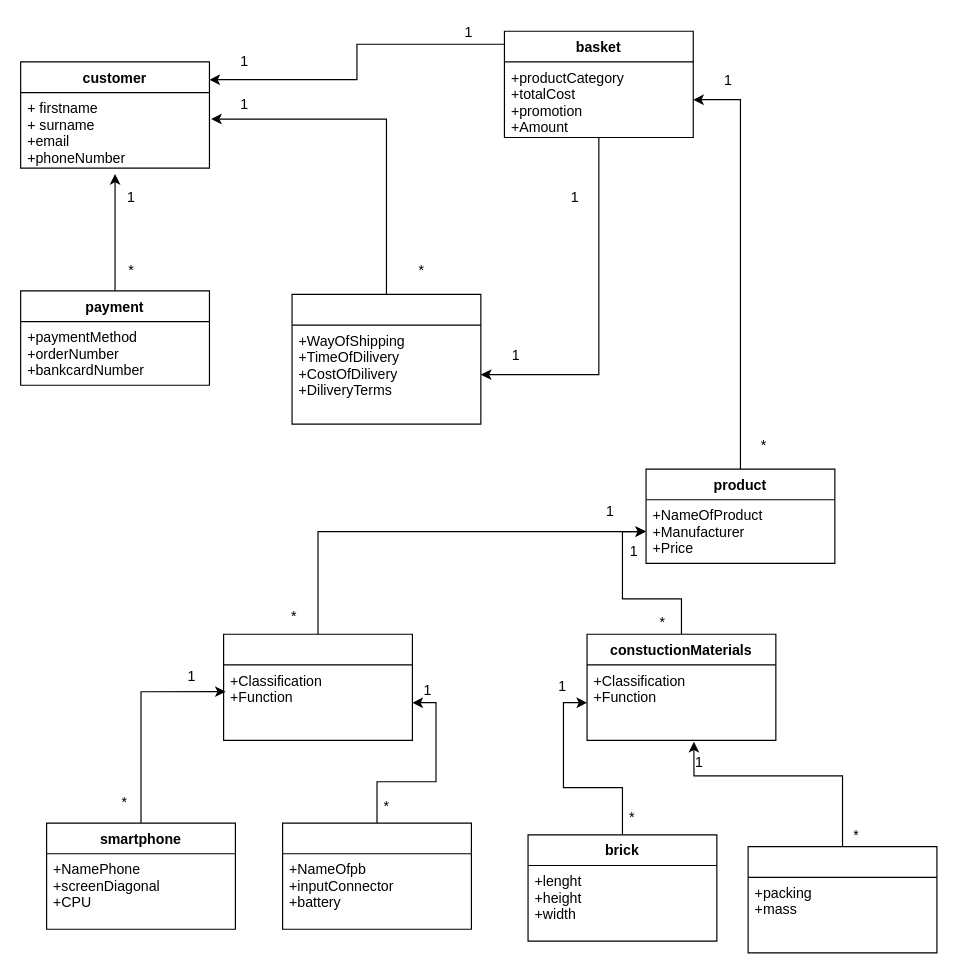
This 958x976 diagram has some shape labels left out. The shapes that lost their labels are listed below. From the top down, each one's box as (x1, y1, x2, y2) in pixels, then its label:
(291, 293, 481, 424): delivery
(222, 633, 412, 740): electronics
(281, 822, 471, 929): powerBank
(747, 845, 937, 953): cement
